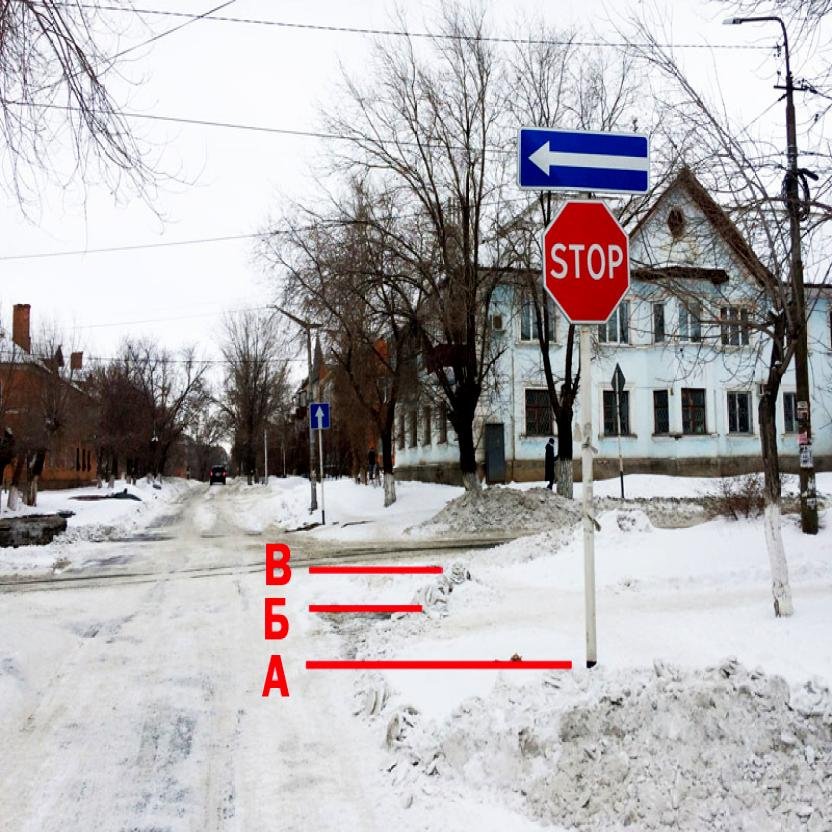Pole: (581, 330, 596, 668), (318, 430, 326, 523)
Sign: (544, 201, 630, 323)
